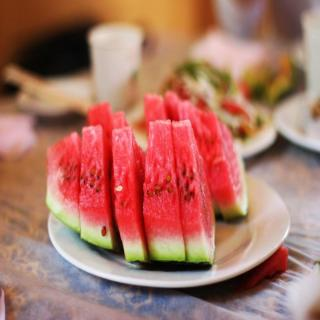Watermelon: (45, 92, 250, 264)
